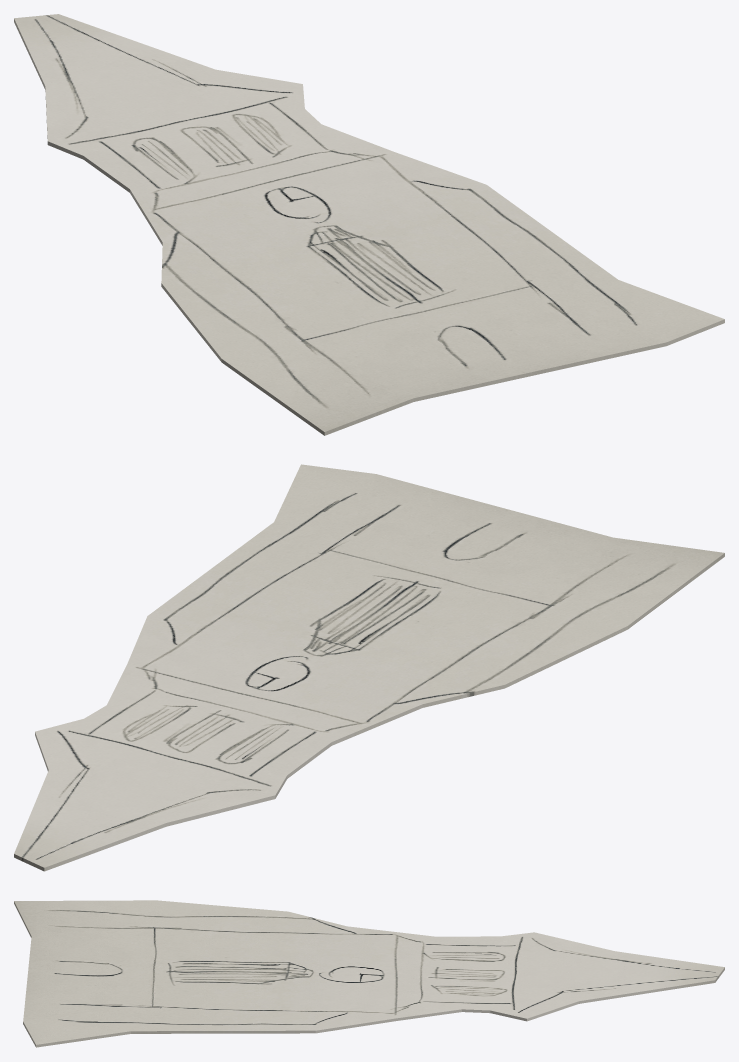
The model's file is kyoukai.fbx.
3 renders of one model, top to bottom at view 1: azimuth 30°, elevation 25°; view 2: azimuth 150°, elevation 25°; view 3: azimuth 270°, elevation 25°, orthographic. The views are drawn at different scales.
Visible parts, largest first — view 1: Plane; view 2: Plane; view 3: Plane.
Boxes of the visible parts, x1,y1,x2,y2 form: Plane: (14, 14, 724, 435); Plane: (14, 464, 724, 871); Plane: (14, 900, 724, 1047).
Size of the model in its own units: 539 by 4.71 by 1121.
1 material, 1 textured.
